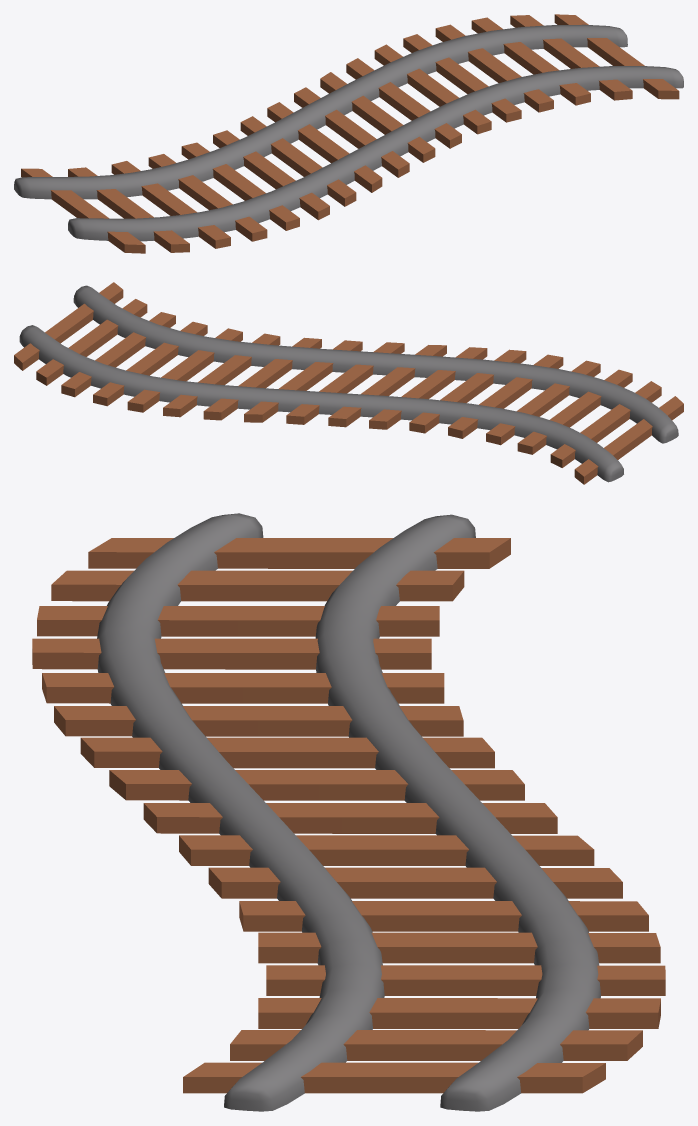
Rendered from Crooked_Rail.fbx.
3 views of the same model, one above another, from view 1: azimuth 30°, elevation 25°; view 2: azimuth 150°, elevation 25°; view 3: azimuth 270°, elevation 25° (orthographic). The views are drawn at different scales.
Visible parts, largest first — view 1: Crooked_Rail; view 2: Crooked_Rail; view 3: Crooked_Rail.
Part boxes in pixels (left/top/right/bottom): Crooked_Rail: left=14, top=14, right=683, bottom=253; Crooked_Rail: left=14, top=282, right=683, bottom=484; Crooked_Rail: left=32, top=513, right=665, bottom=1111.
Bounding box in the file's own units: 637 × 14.03 × 295.
